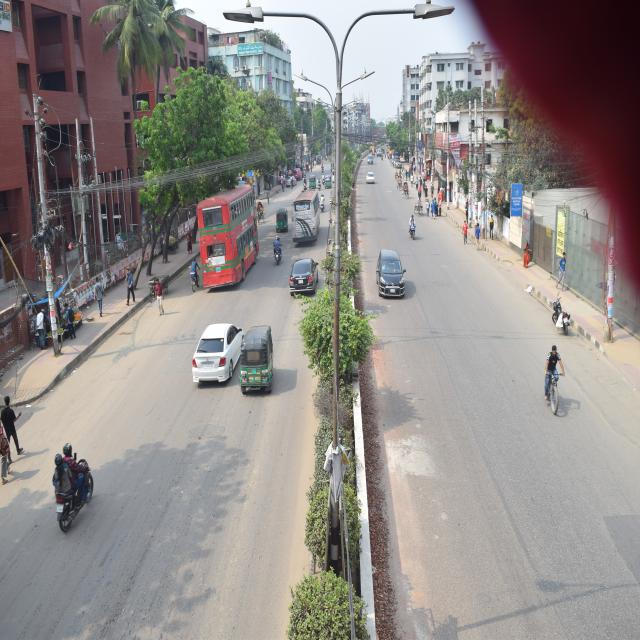bus: (194, 180, 261, 294), (290, 180, 324, 247)
car: (191, 304, 246, 392), (373, 242, 411, 300), (286, 251, 323, 298), (364, 167, 377, 184), (286, 175, 297, 188)
motorbike: (37, 412, 105, 552), (554, 293, 570, 334), (404, 211, 420, 241), (266, 231, 282, 258), (319, 194, 325, 213), (301, 175, 307, 189), (317, 177, 322, 190), (321, 173, 326, 184)
